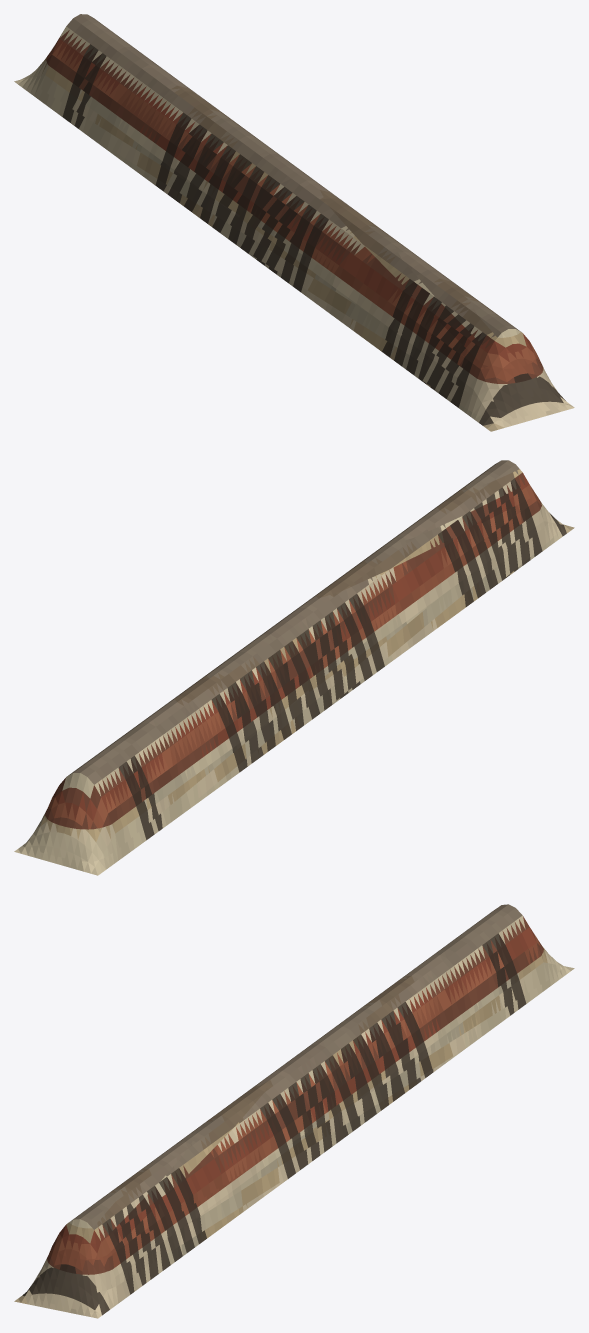
Rendered from dam_eye_fin_west.glb.
The picture shows the model from 3 angles, top to bottom: view 1: azimuth 30°, elevation 25°; view 2: azimuth 150°, elevation 25°; view 3: azimuth 330°, elevation 25°; orthographic projection.
Visible parts, largest first — view 1: dam_eye_fin_west; view 2: dam_eye_fin_west; view 3: dam_eye_fin_west.
Boxes of the visible parts, x1=… form: dam_eye_fin_west: x1=14, y1=14, x2=574, y2=431; dam_eye_fin_west: x1=14, y1=460, x2=574, y2=875; dam_eye_fin_west: x1=14, y1=904, x2=574, y2=1318.
Bounding box in the file's own units: 24 × 20.76 × 236.
